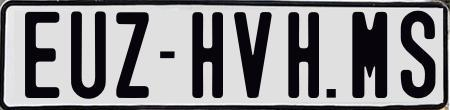E: (24, 10, 63, 96)
H: (285, 10, 322, 102), (192, 10, 228, 99)
M: (351, 11, 387, 102)
S: (400, 10, 431, 101)
U: (70, 11, 110, 99)
V: (231, 11, 275, 102)
Z: (116, 12, 153, 102)
